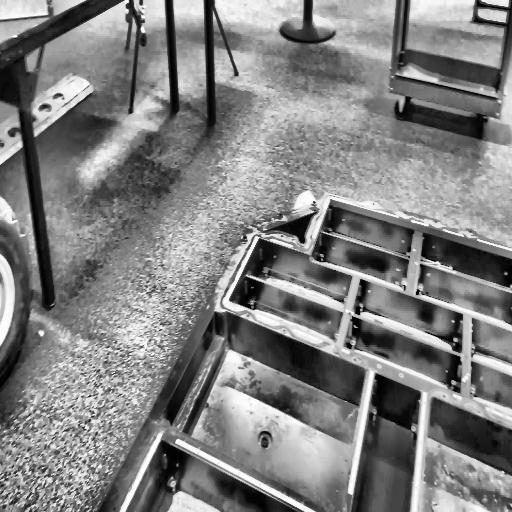b_casing: (94, 190, 512, 512)
